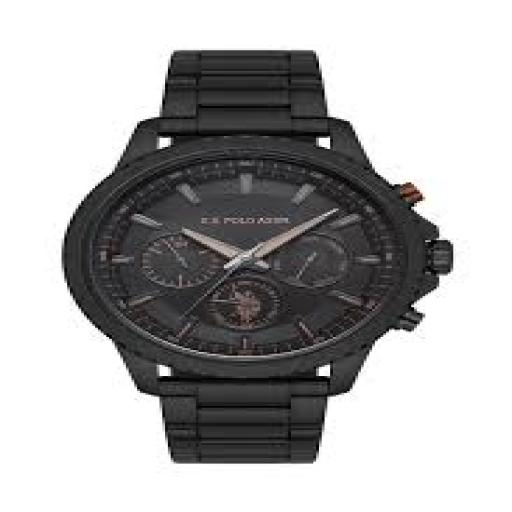KolSaati: (68, 23, 455, 477)
